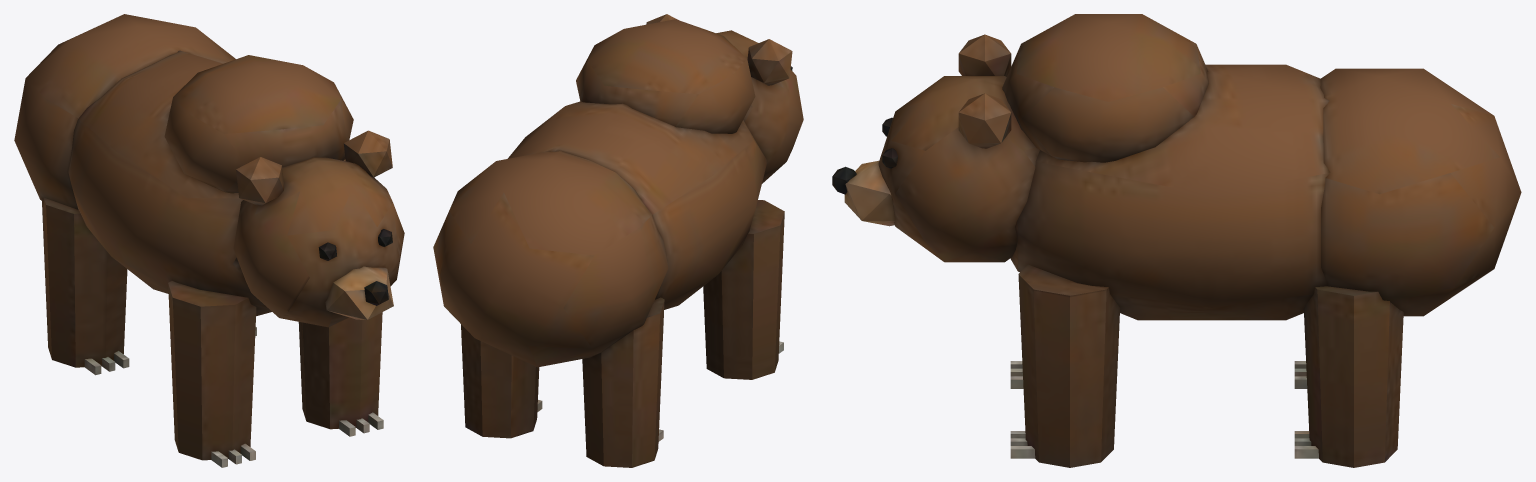
File: oso_pardo.glb
3 views of the same model, side by side, from view 1: azimuth 30°, elevation 25°; view 2: azimuth 150°, elevation 25°; view 3: azimuth 270°, elevation 25° (orthographic). The views are drawn at different scales.
Parts seen in each view (by area): view 1: oso_pardo; view 2: oso_pardo; view 3: oso_pardo.
Boxes of the visible parts, left/top/right/bottom form: oso_pardo: left=14, top=14, right=404, bottom=467; oso_pardo: left=433, top=14, right=803, bottom=467; oso_pardo: left=832, top=14, right=1521, bottom=467.
Size of the model in its own units: 1.08 by 1.67 by 2.67.
Materials: 1 (1 with a texture image).
